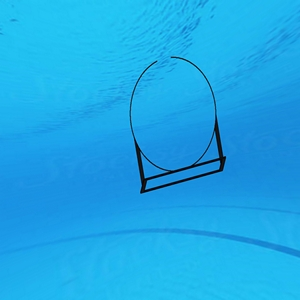circle: (127, 55, 237, 198)
